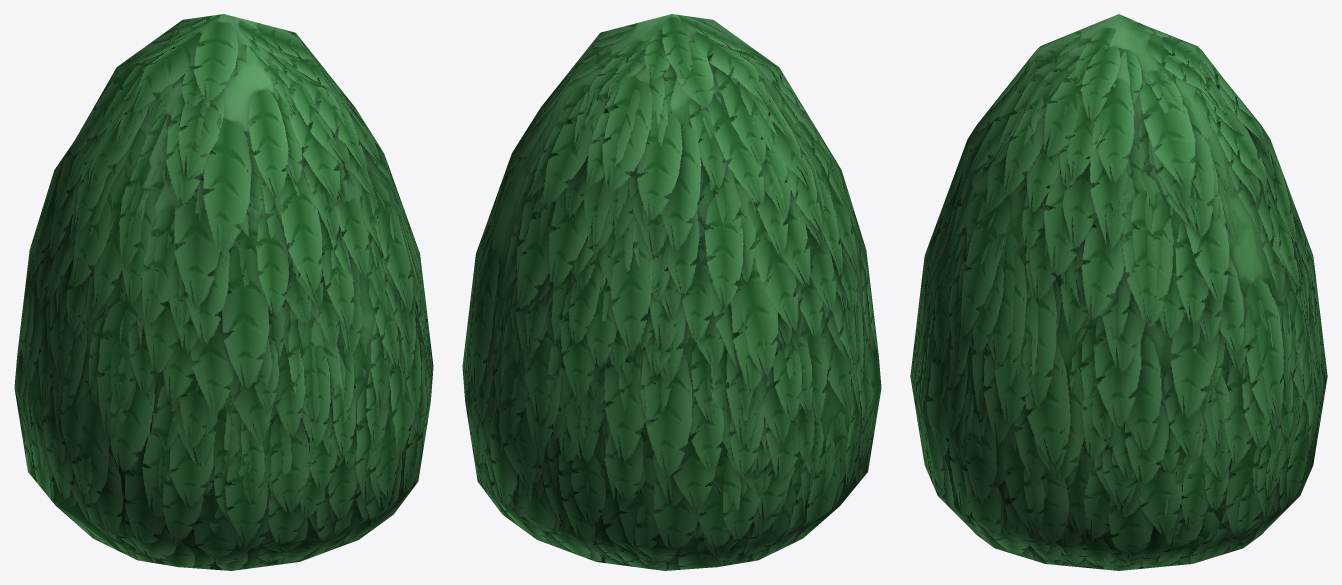
File: bushspike.glb
3 views of the same model, side by side, from view 1: azimuth 30°, elevation 25°; view 2: azimuth 150°, elevation 25°; view 3: azimuth 270°, elevation 25° (orthographic).
Visible parts, largest first — view 1: bushspike; view 2: bushspike; view 3: bushspike.
Part boxes in pixels (x1,y1,x2,y2): bushspike: (14, 14, 433, 570); bushspike: (462, 14, 881, 570); bushspike: (910, 14, 1327, 570).
Bounding box in the file's own units: 0.5876 × 0.7716 × 0.5876.
1 material, 1 textured.
